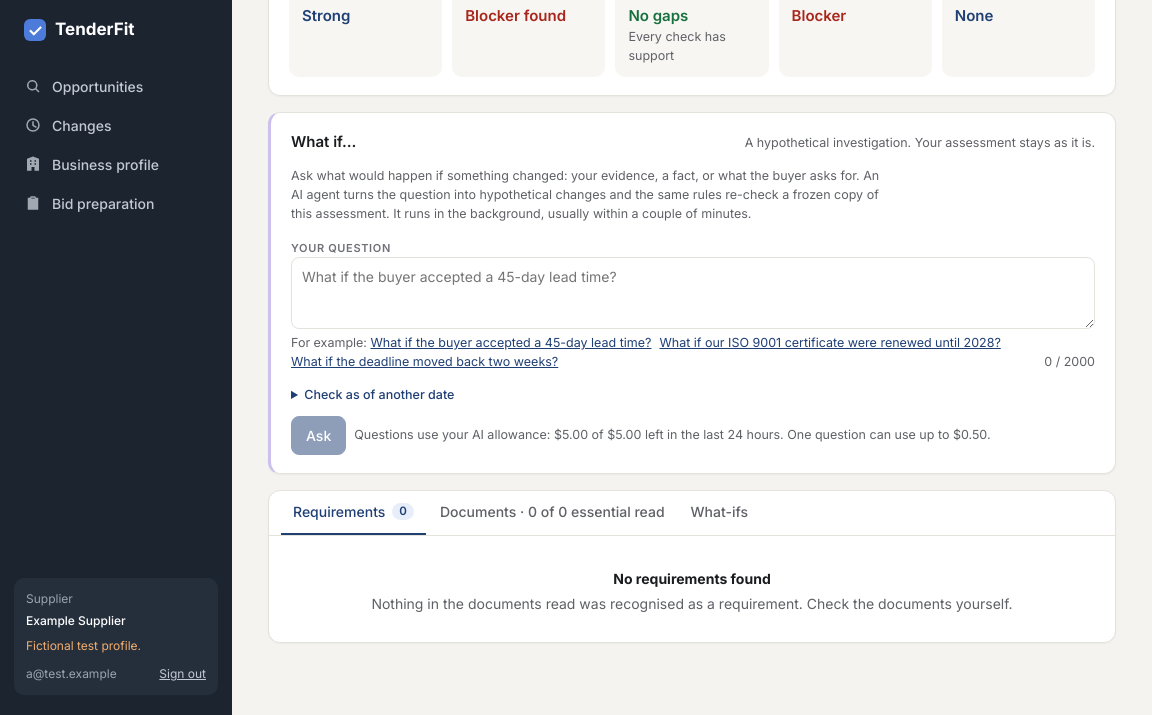
Test: choosing scenarios to compare › compares 2 to 4 completed scenarios of this assessment
(page scrolled)
Click the tab "What-ifs": point(719, 513) x1=679 y1=490 x2=760 y2=535
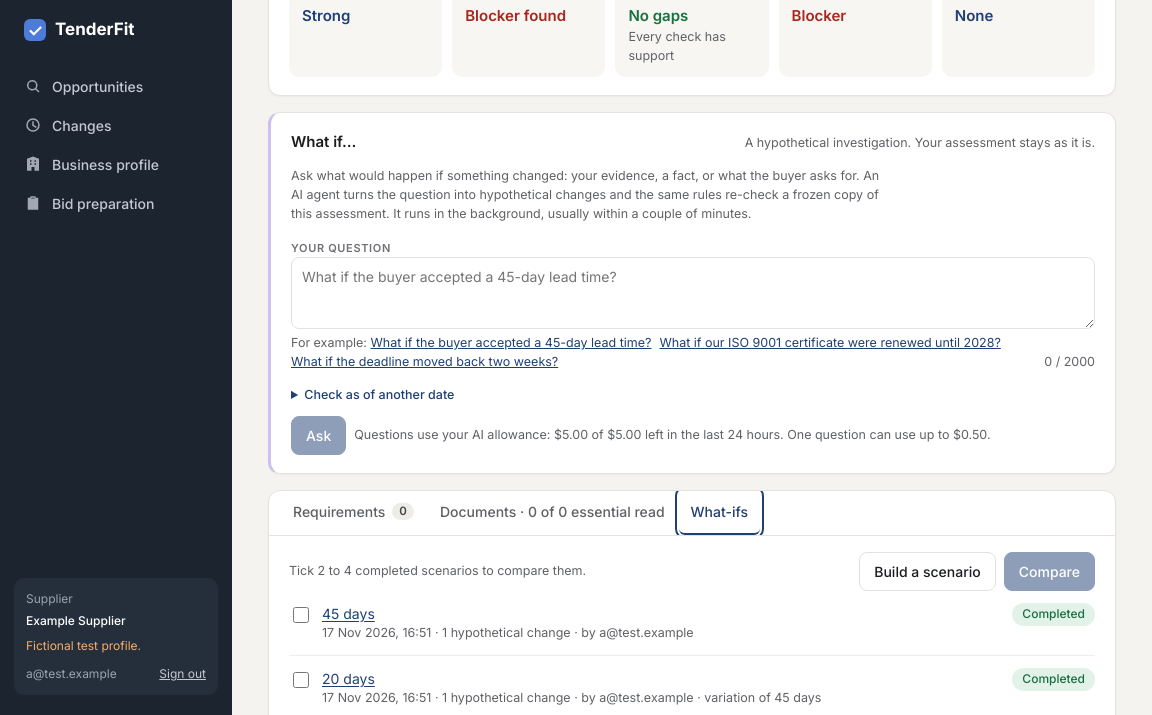
Check: the text "variation of 45 days" is shown, box x1=322 y1=690 x2=821 y2=705
Click the checkbox named "Compare 45 days": point(301, 615) x1=293 y1=607 x2=309 y2=623
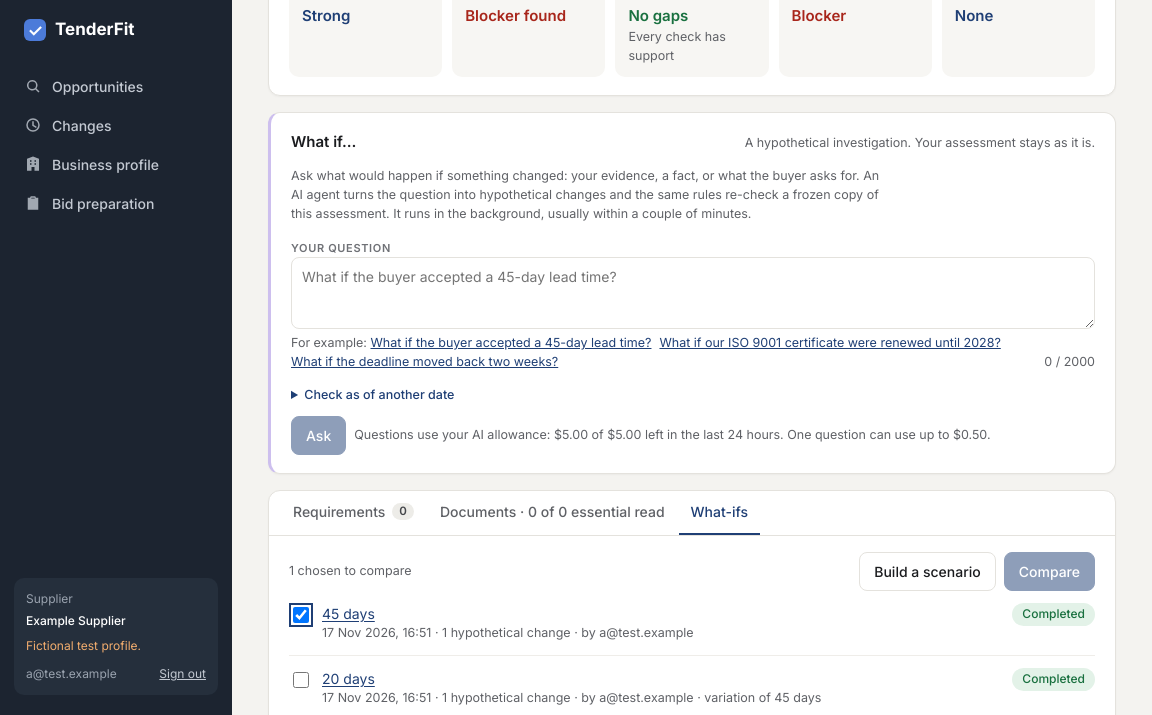
Check: the button "Compare" is disabled, box x1=1004 y1=552 x2=1095 y2=591
Click the checkbox named "Compare 20 days": point(301, 680) x1=293 y1=672 x2=309 y2=688
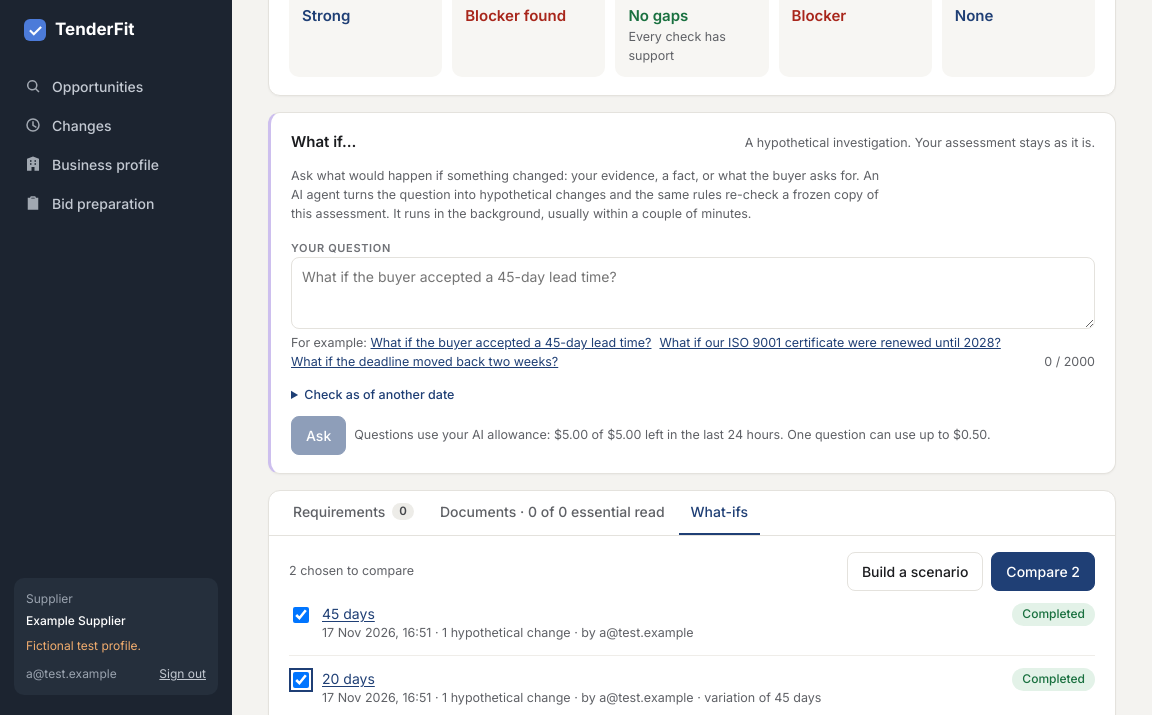
Click the button "Compare 2": point(1043, 572) x1=991 y1=552 x2=1095 y2=591
(page scrolled)
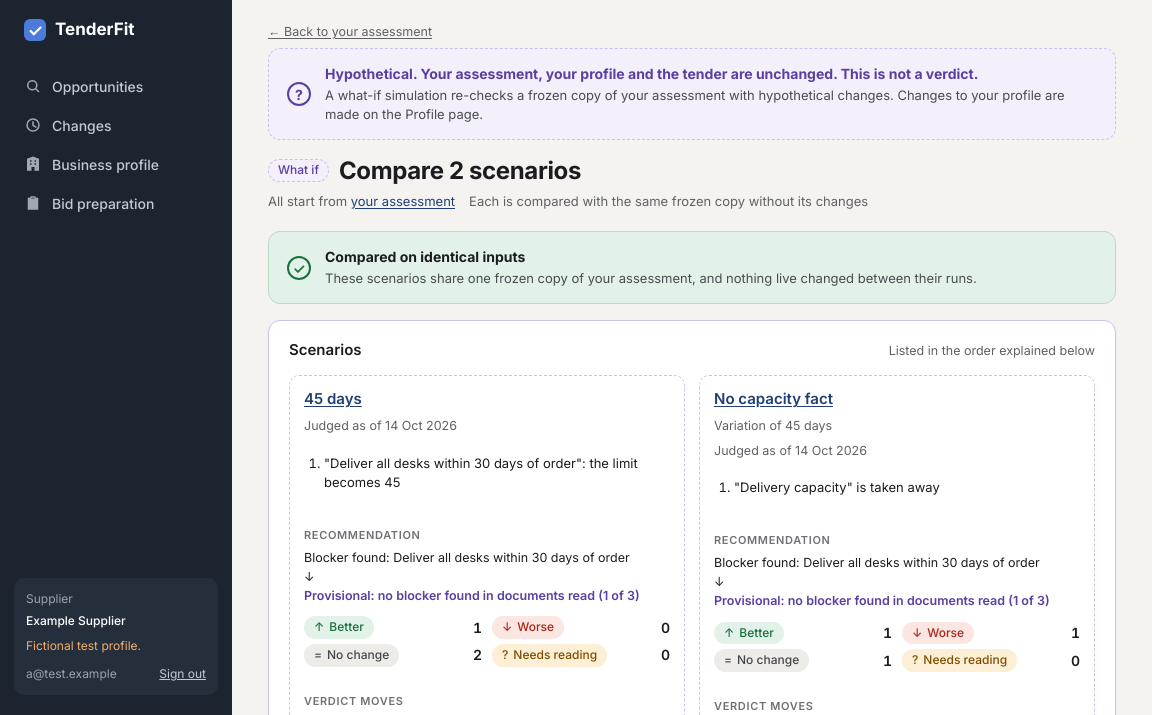
Check: the heading "Compare 2 scenarios" is shown, box x1=339 y1=156 x2=581 y2=186
